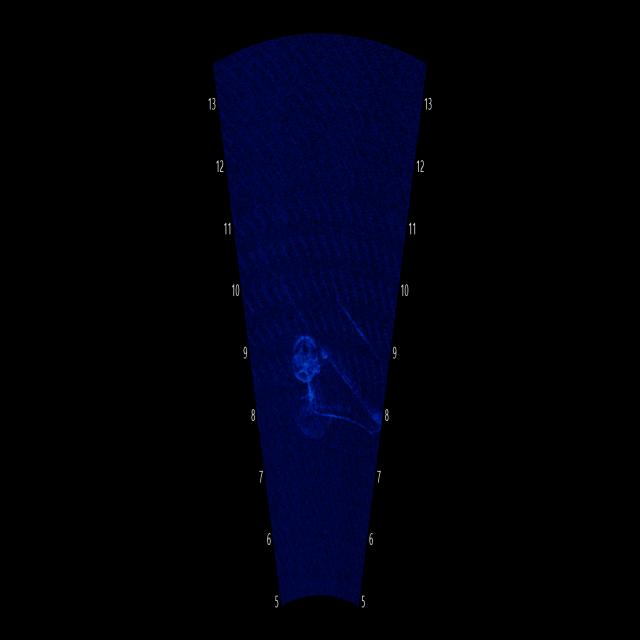circle: (284, 310, 335, 395)
